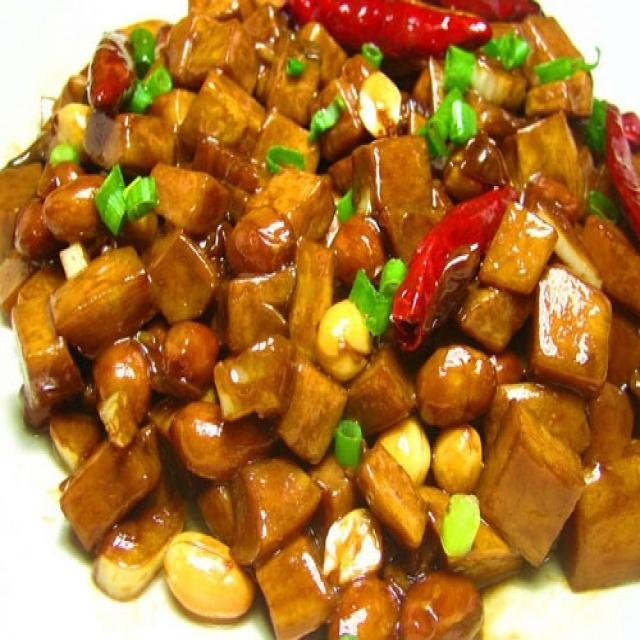鸡肉料理 含炸鸡: (19, 21, 631, 628)
